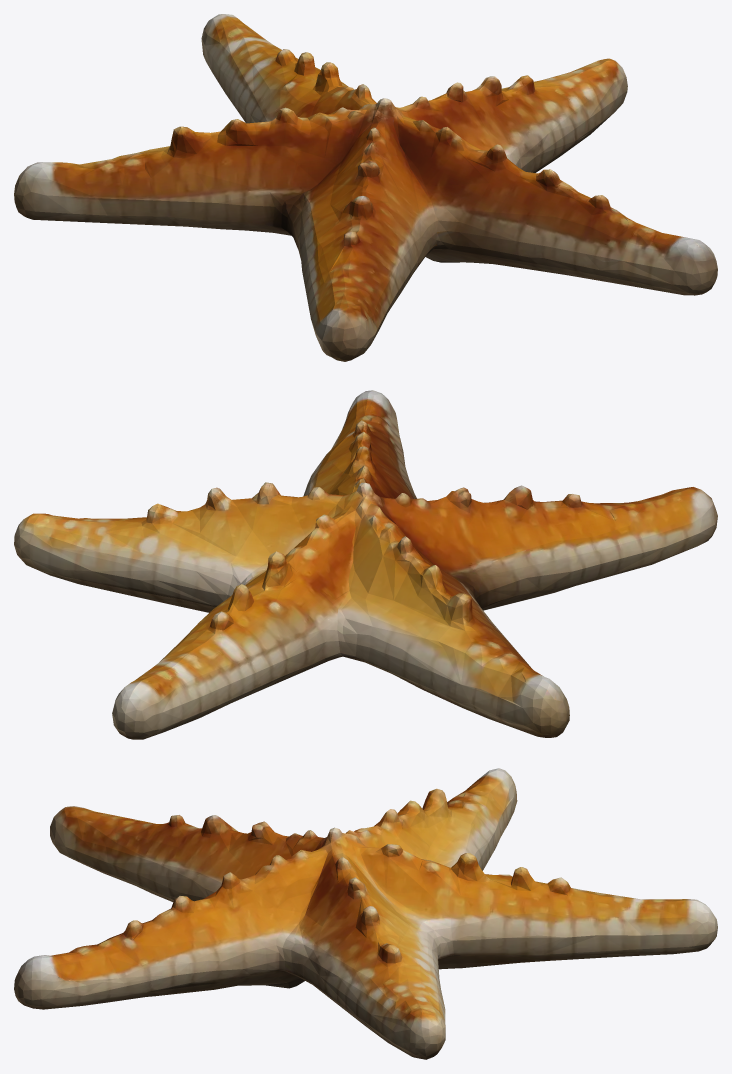
3 renders of one model, top to bottom at view 1: azimuth 30°, elevation 25°; view 2: azimuth 150°, elevation 25°; view 3: azimuth 270°, elevation 25°, orthographic. The views are drawn at different scales.
Parts seen in each view (by area): view 1: world; view 2: world; view 3: world.
Part boxes in pixels (x1,y1,x2,y2): world: [14, 14, 717, 361]; world: [14, 390, 717, 739]; world: [14, 768, 717, 1059].
Size of the model in its own units: 0.8764 by 0.2268 by 0.9925.
1 material, 1 textured.
